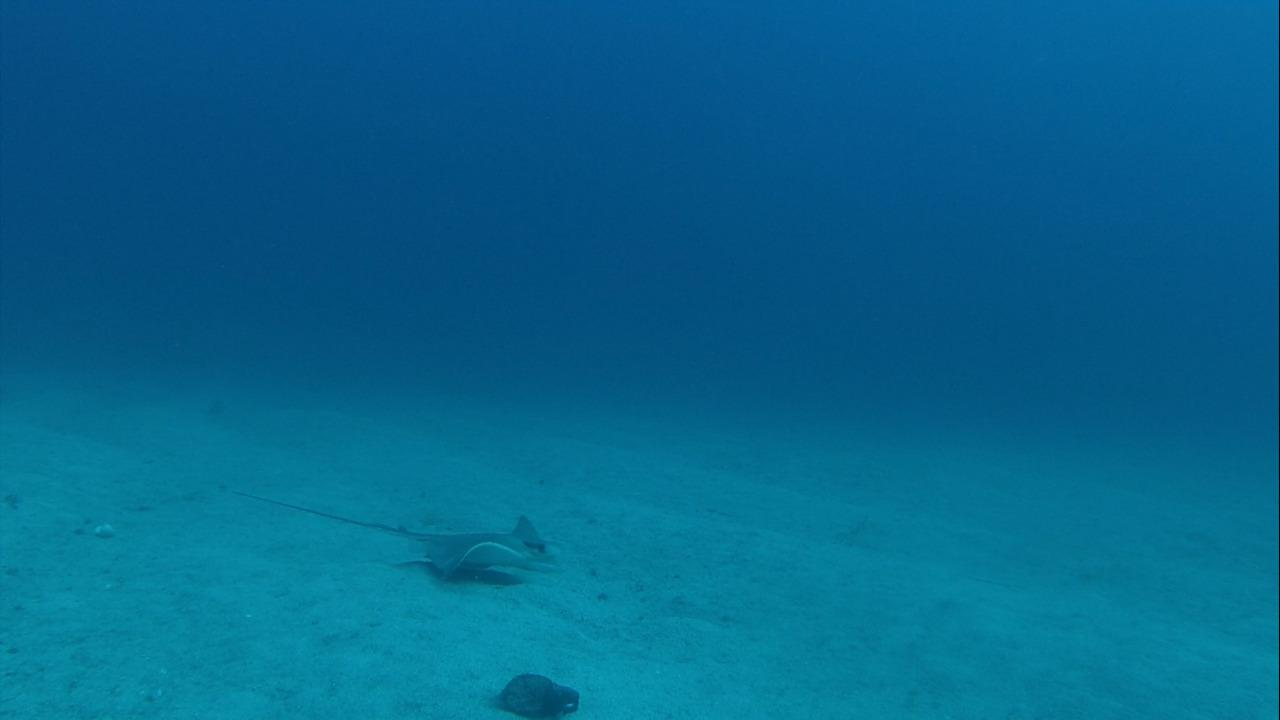myliobatis: (203, 485, 562, 587)
